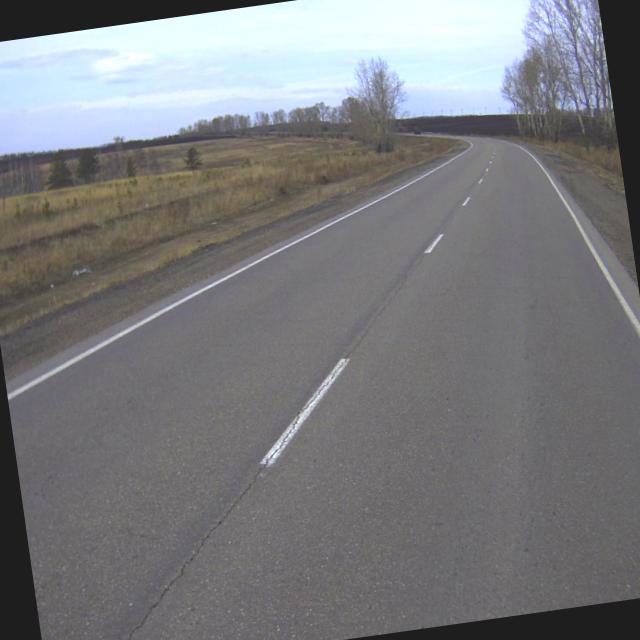road: (7, 138, 640, 640)
